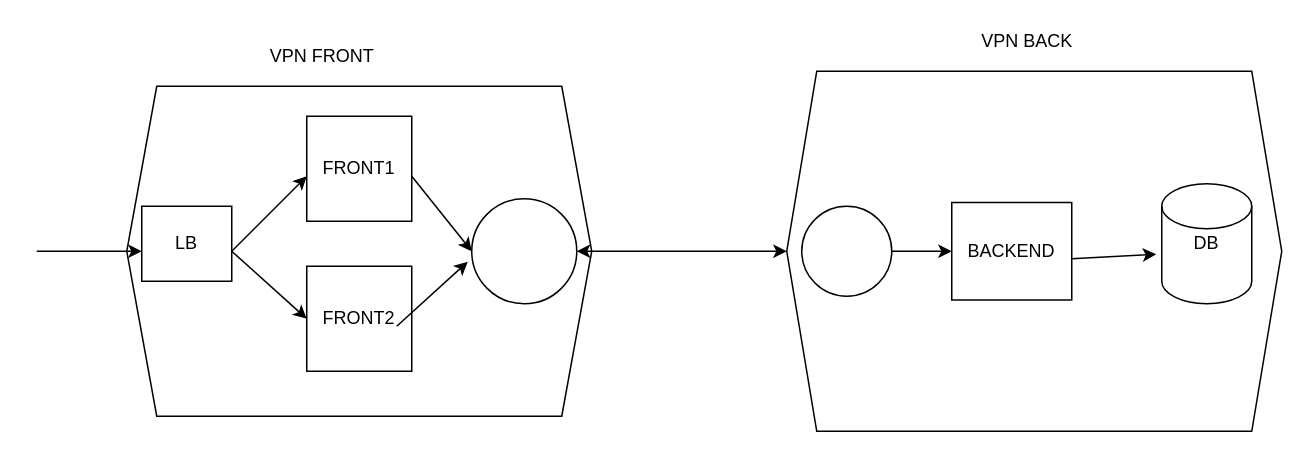
This 1308x458 diagram has some shape labels left out. Each missing label, with the centre of its shape:
"GATEWAY" goes at (846,250).
"OUTWAY FRONT" goes at (523,250).
